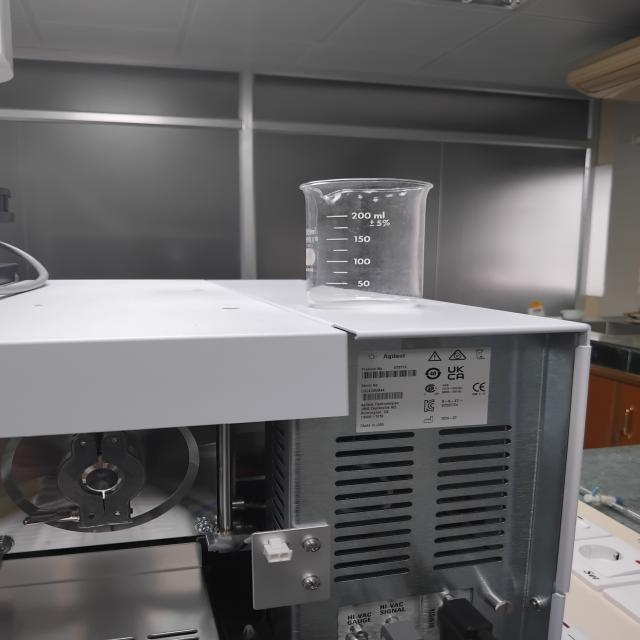Beaker: (276, 146, 450, 330)
